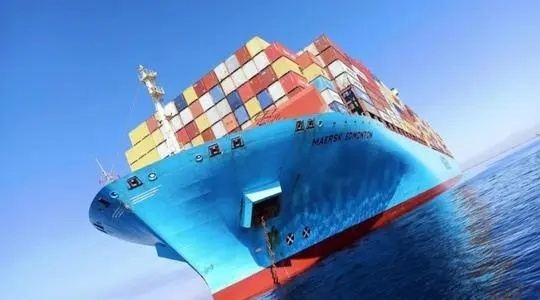Cargoship: (77, 33, 461, 289)
